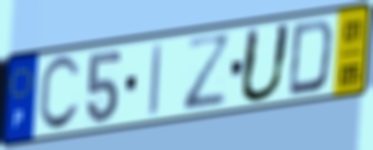5: (85, 49, 124, 127)
C: (36, 52, 83, 135)
D: (285, 16, 337, 99)
I: (147, 40, 165, 119)
U: (236, 21, 295, 106)
Z: (182, 31, 234, 115)
